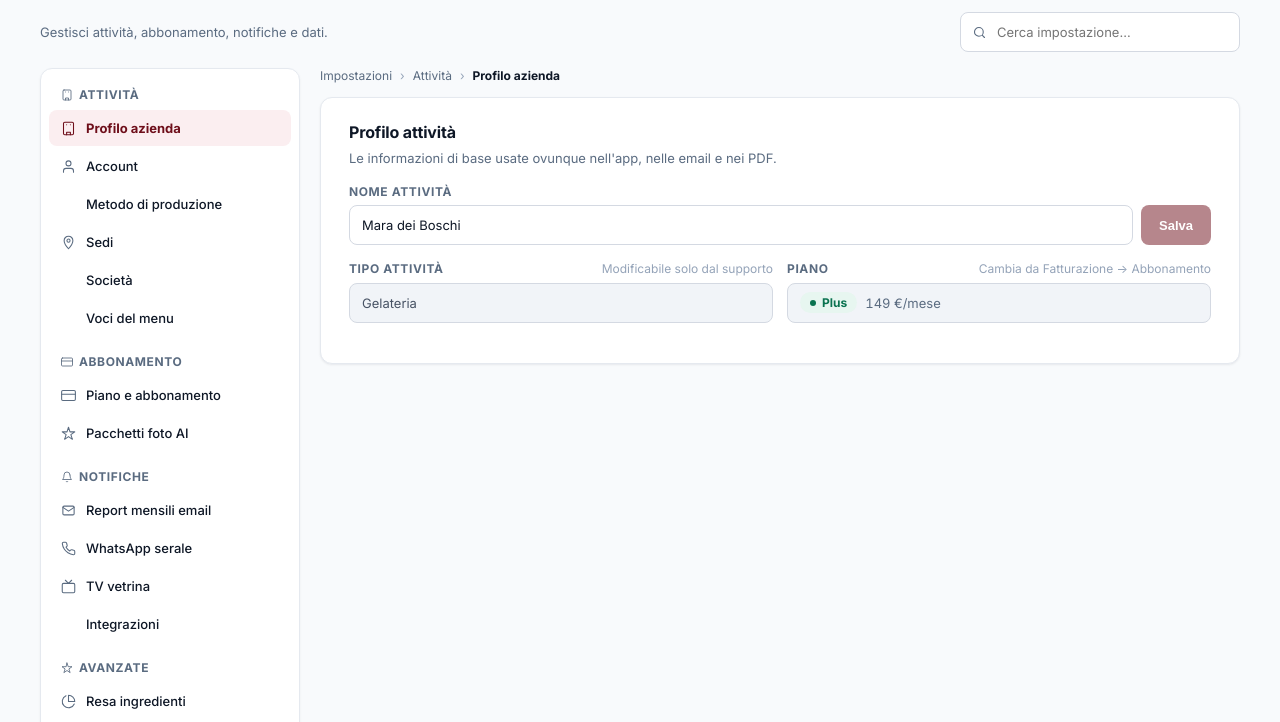
Test case: Impostazioni · metodo di produzione › mostra i due metodi con un nome comprensibile
Click the button "Metodo di produzione": (170, 204) [49,186,291,222]
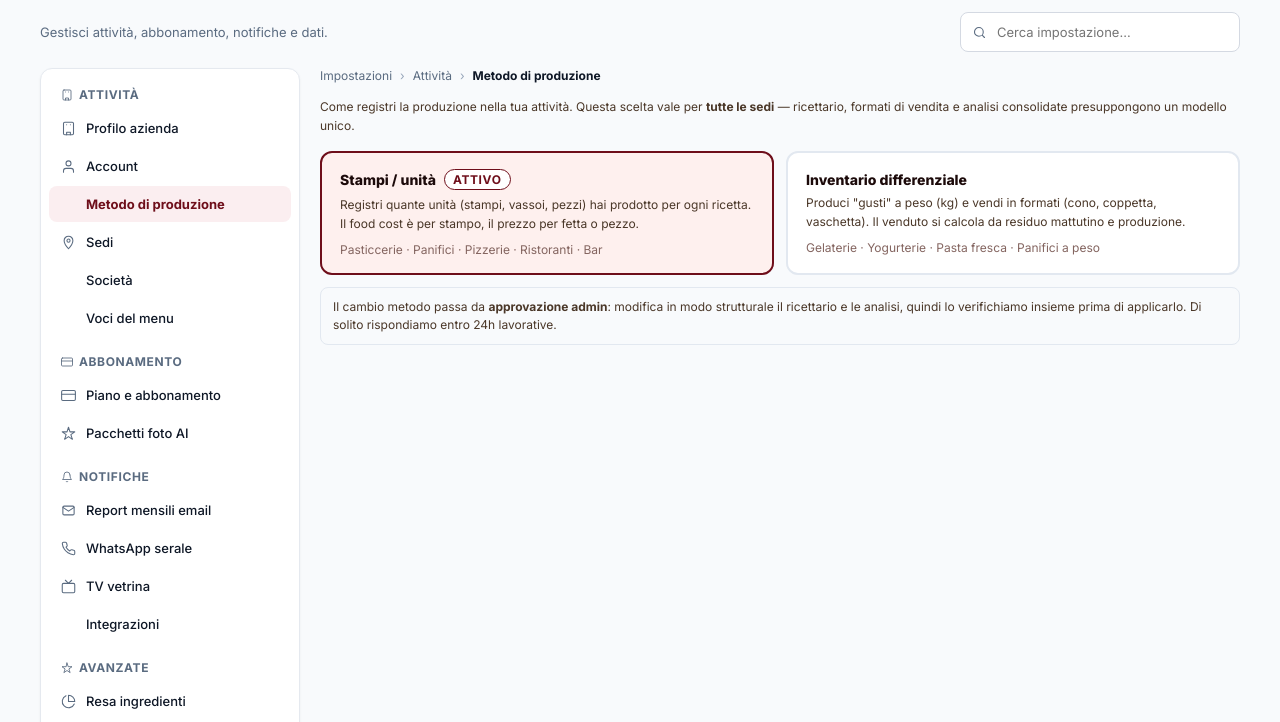
Expected: the text "Stampi / unità" is shown, [340,171,436,188]
Expected: the text "Inventario differenziale" is shown, [806,171,967,188]
